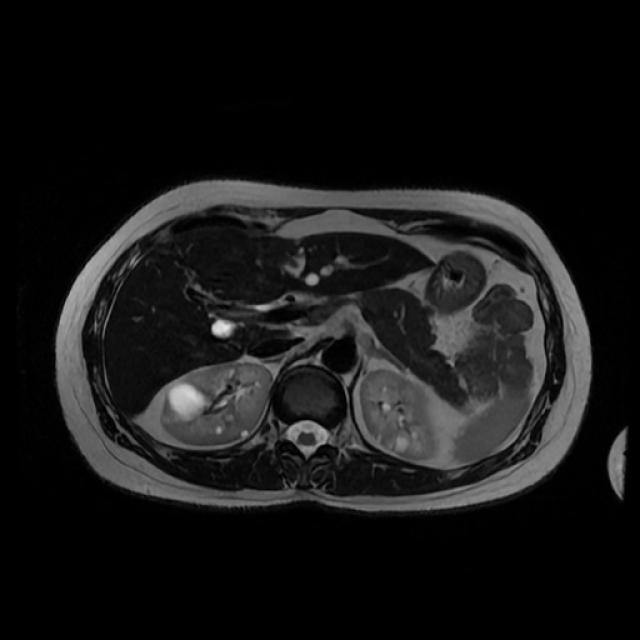sag: (163, 362, 275, 445)
sol: (364, 368, 438, 458)
